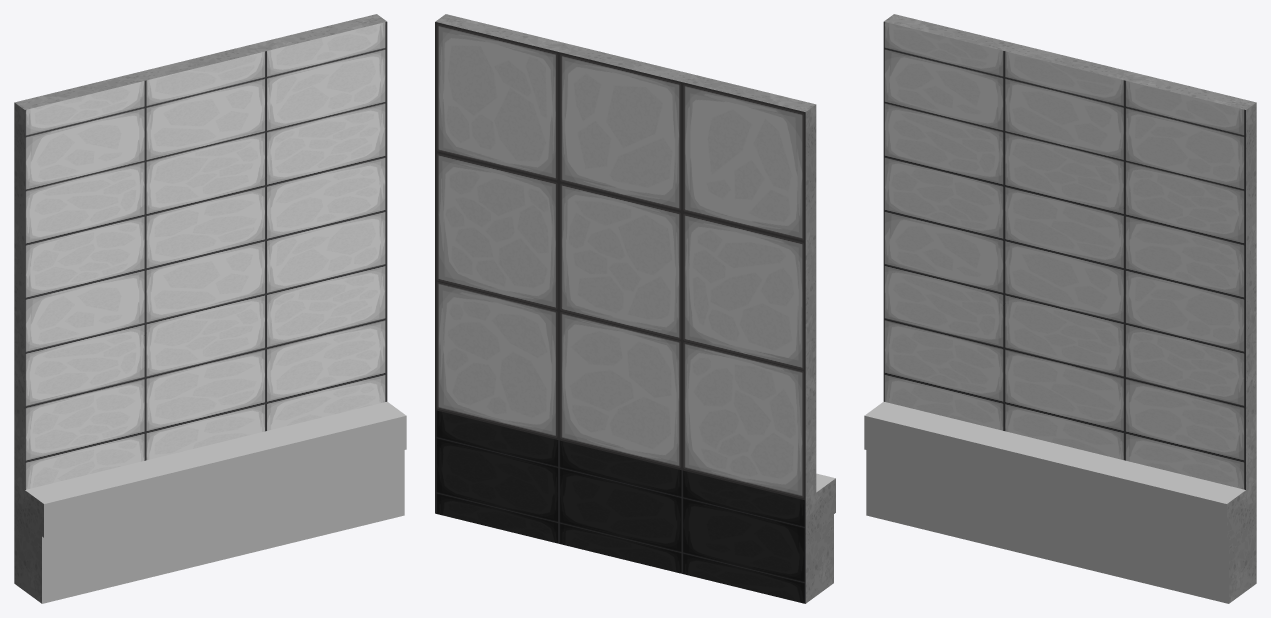
Rendered from SM_Platform_Wall_4m.fbx.
The picture shows the model from 3 angles, left to right: view 1: azimuth 30°, elevation 25°; view 2: azimuth 150°, elevation 25°; view 3: azimuth 330°, elevation 25°; orthographic projection. The views are drawn at different scales.
Visible parts, largest first — view 1: SM_Platform_Wall_4m; view 2: SM_Platform_Wall_4m; view 3: SM_Platform_Wall_4m.
Boxes of the visible parts, box(x1,y1,x2,y2) form: SM_Platform_Wall_4m: box(14, 14, 406, 603); SM_Platform_Wall_4m: box(435, 14, 835, 603); SM_Platform_Wall_4m: box(864, 14, 1256, 603).
Bounding box in the file's own units: 400 × 507 × 56.78.
